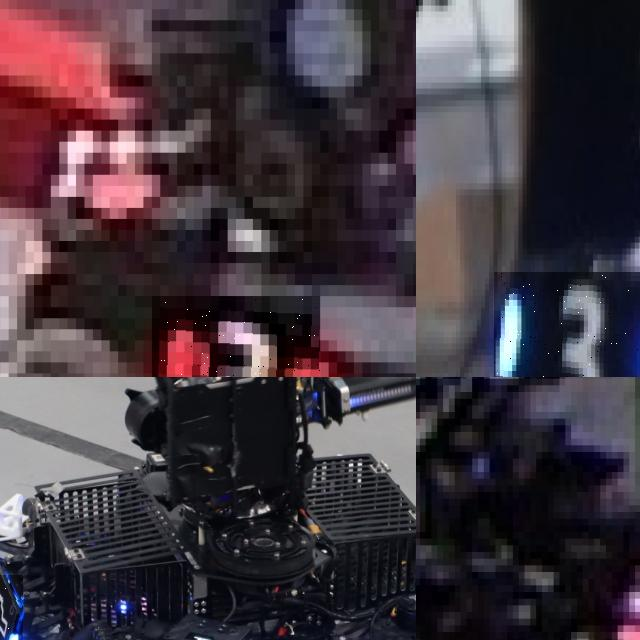B3: (493, 272, 640, 377)
Bs: (0, 574, 23, 640)
R3: (151, 296, 320, 377)
